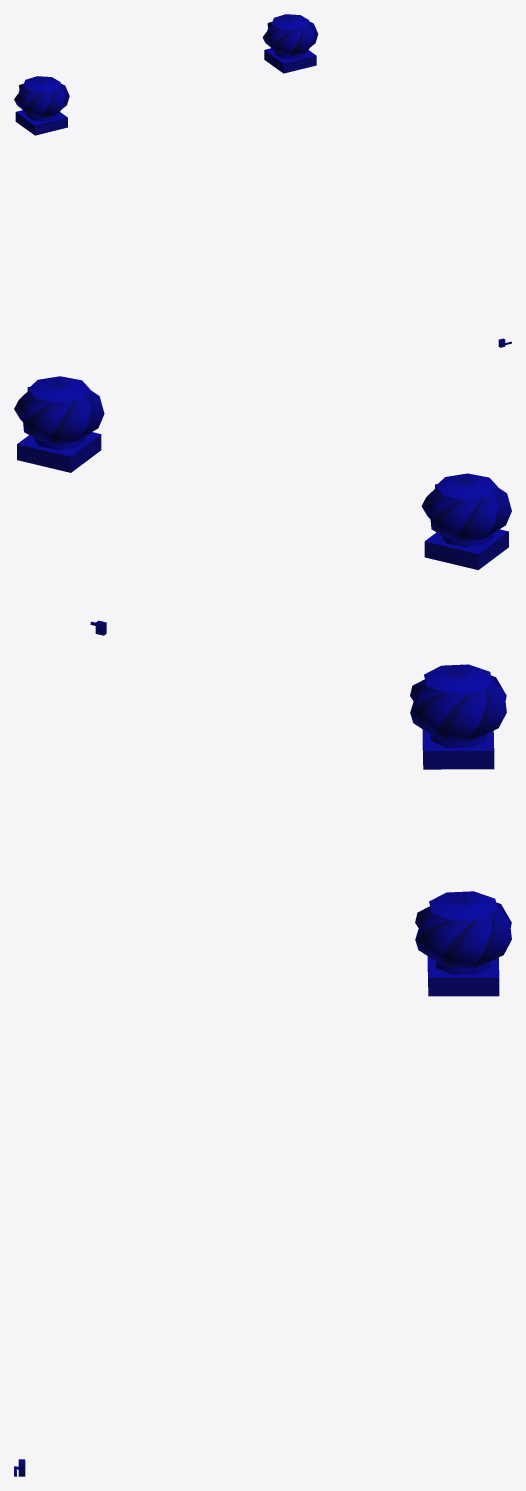
Rendered from refl.011.fbx.
3 views of the same model, one above another, from view 1: azimuth 30°, elevation 25°; view 2: azimuth 150°, elevation 25°; view 3: azimuth 270°, elevation 25° (orthographic). The views are drawn at different scales.
Parts seen in each view (by area): view 1: refl.011; view 2: refl.011; view 3: refl.011.
Part boxes in pixels (x1=…): refl.011: x1=14, y1=14, x2=511, y2=347; refl.011: x1=14, y1=376, x2=511, y2=635; refl.011: x1=14, y1=664, x2=511, y2=1476.
Bounding box in the file's own units: 764 × 1229 × 828.
